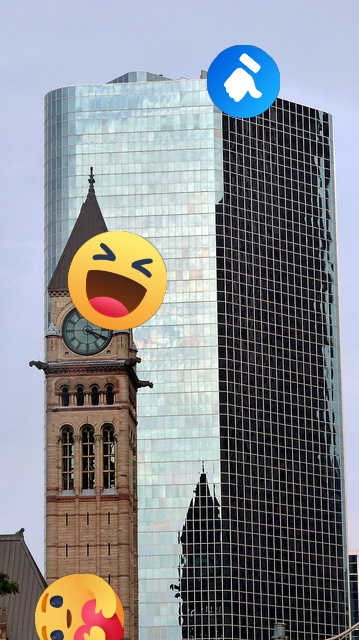care: (35, 574, 124, 640)
haha: (68, 231, 167, 330)
like: (207, 45, 280, 118)
